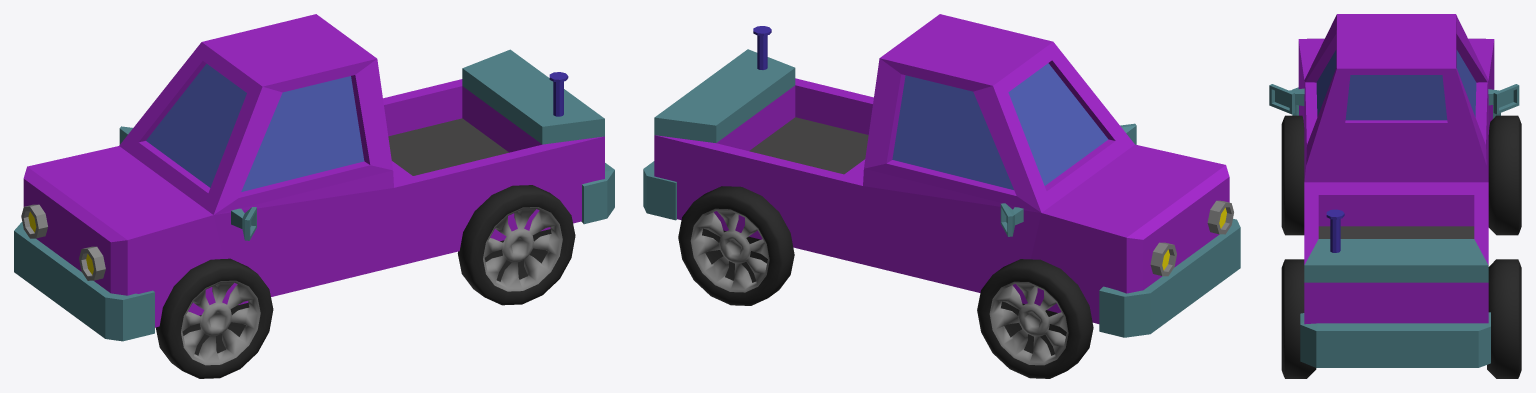
File: Car-4.fbx
3 views of the same model, side by side, from view 1: azimuth 30°, elevation 25°; view 2: azimuth 150°, elevation 25°; view 3: azimuth 270°, elevation 25° (orthographic). The views are drawn at different scales.
Visible parts, largest first — view 1: Car-4; view 2: Car-4; view 3: Car-4.
Boxes of the visible parts, left/top/right/bottom form: Car-4: left=14, top=14, right=614, bottom=378; Car-4: left=643, top=14, right=1240, bottom=378; Car-4: left=1269, top=14, right=1521, bottom=378.
Size of the model in its own units: 9.99 by 4.72 by 4.34.
